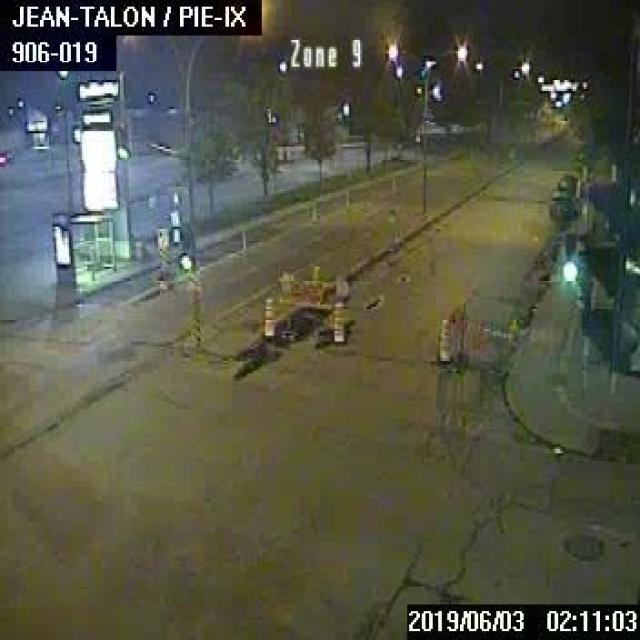construction: (276, 264, 347, 340), (447, 303, 517, 370), (330, 299, 346, 345), (260, 294, 275, 340), (436, 316, 450, 363)
vehicle: (547, 188, 571, 216), (555, 173, 575, 190)
